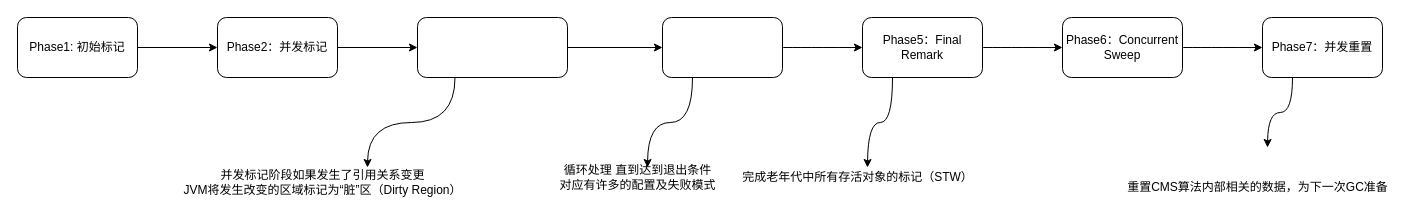
Some shapes in this 1415 by 215 pixel diagram are drawn without their labels. Here are the shapes that lost their labels. From the top down, the centre of each, then its label:
At [492,47]: "Phase3：并发预清理（Concurrent Preclean）".
At [722,47]: "Phase4：并发可撤销的预清理".
